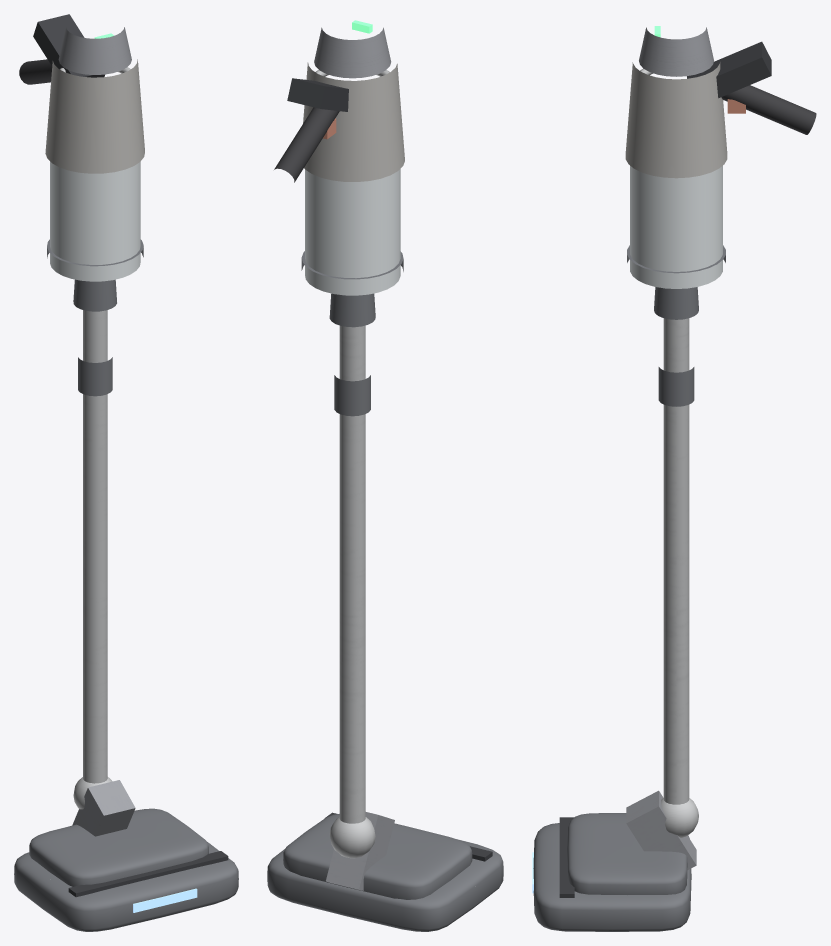
The model's file is vacuum-cleaner.glb.
The picture shows the model from 3 angles, left to right: view 1: azimuth 30°, elevation 25°; view 2: azimuth 150°, elevation 25°; view 3: azimuth 270°, elevation 25°; orthographic projection. The views are drawn at different scales.
Parts seen in each view (by area): view 1: wand, dust-bin, motor-body, floor-head, head-top, motor-cap, head-neck, handle-arm, head-strip, inlet, wand-collar, handle-grip (+1 smaller); view 2: wand, dust-bin, floor-head, motor-body, head-top, motor-cap, head-neck, handle-grip, handle-arm, head-joint, inlet, wand-collar; view 3: wand, dust-bin, motor-body, head-top, floor-head, motor-cap, head-neck, handle-arm, handle-grip, inlet, wand-collar, head-joint (+1 smaller).
Boxes of the visible parts, x1,y1,x2,y2 form: wand: (83,310,107,783); dust-bin: (50,161,140,281); motor-body: (45,59,144,173); floor-head: (14,841,238,931); head-top: (29,808,208,886); motor-cap: (58,27,131,74); head-neck: (72,780,135,836); handle-arm: (33,14,104,77); head-strip: (68,851,228,897); inlet: (73,279,116,311); wand-collar: (78,357,112,396); handle-grip: (19,59,52,84); wand: (339,325,365,823); dust-bin: (305,169,400,295); floor-head: (267,839,503,931); motor-body: (303,62,404,181); head-top: (283,814,472,899); motor-cap: (314,27,391,78); head-neck: (326,812,394,890); handle-grip: (274,107,339,182); handle-arm: (287,78,348,111); head-joint: (329,817,375,858); inlet: (329,293,375,327); wand-collar: (334,375,370,416); wand: (663,318,689,804); dust-bin: (630,166,722,288); motor-body: (625,62,727,178); head-top: (567,813,687,894); floor-head: (533,823,691,931); motor-cap: (639,27,713,76); head-neck: (626,790,696,870); handle-arm: (687,41,771,98); handle-grip: (721,85,816,134); inlet: (654,287,698,319); wand-collar: (658,367,694,406); head-joint: (661,798,698,837).
Bounding box in the file's own units: 0.27 × 1.27 × 0.3767.
Materials: 10 (2 with a texture image).
